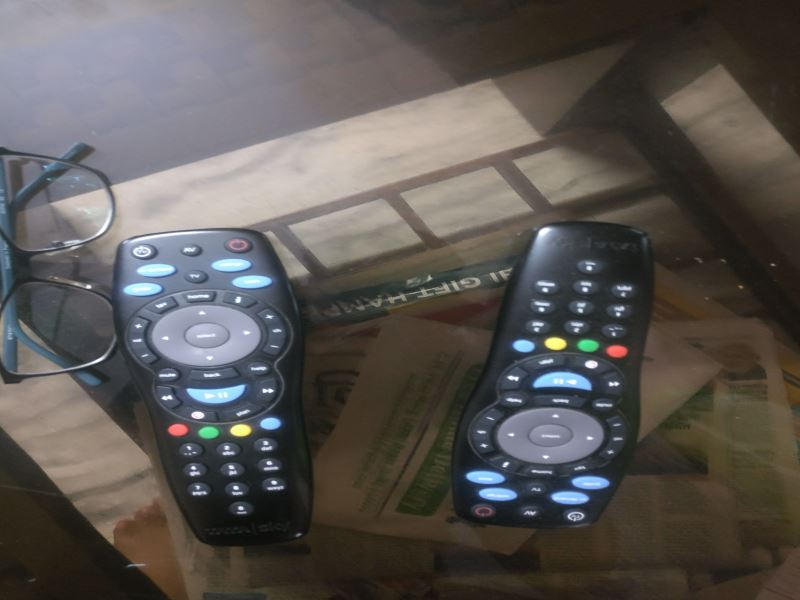tv remote: (116, 231, 319, 547), (455, 222, 653, 531)
